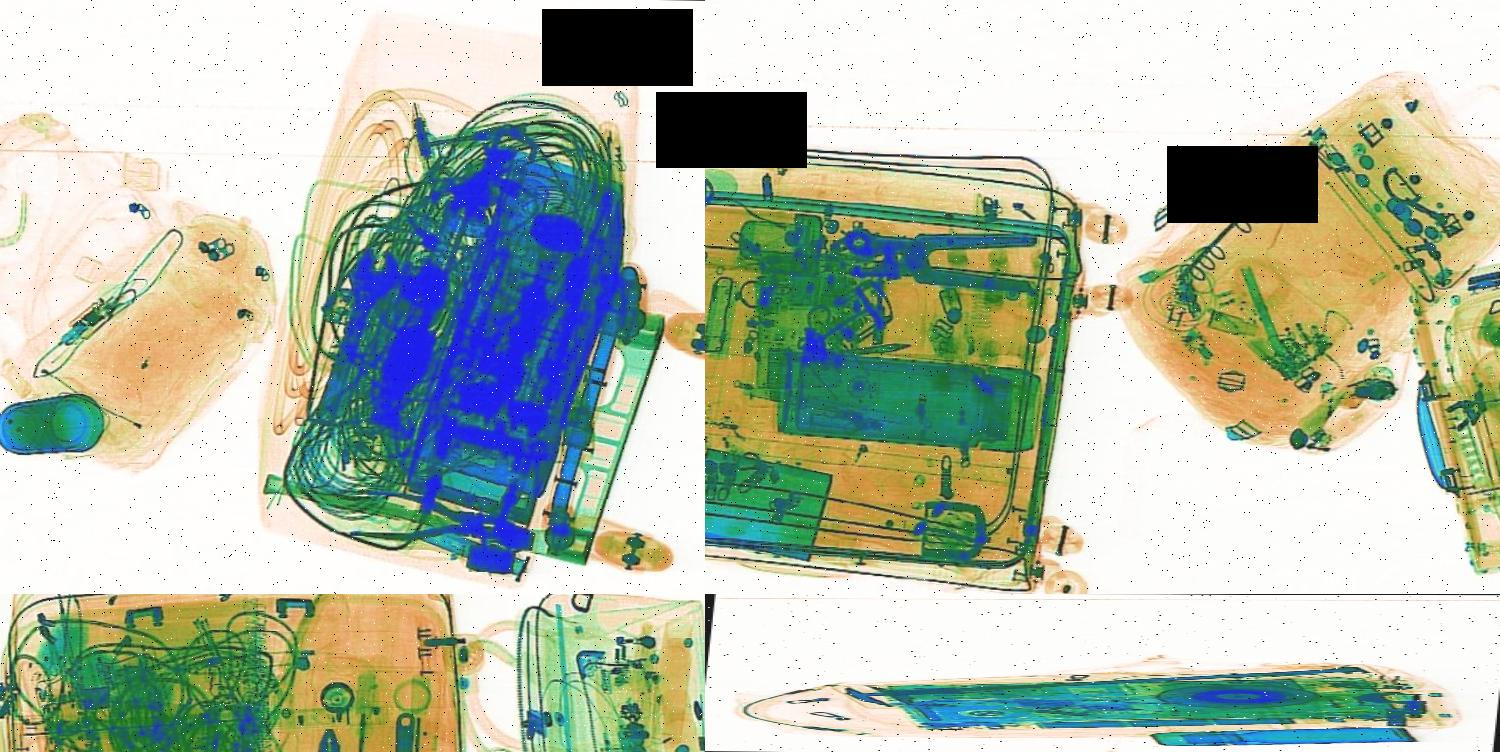Pliers: (340, 485, 506, 552), (298, 726, 350, 752)
Wrench: (299, 246, 405, 424), (374, 710, 426, 752)
